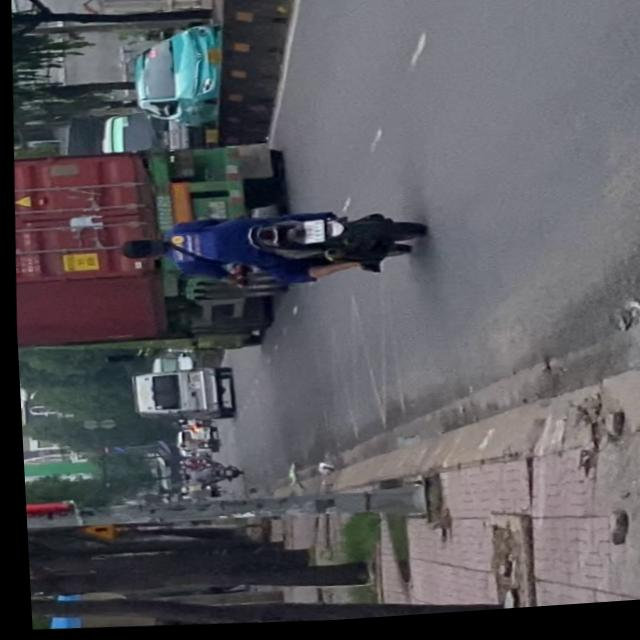licenseplate: (110, 194, 425, 300)
motorcyclist: (115, 235, 163, 263)
nohelmet: (298, 221, 321, 245)
